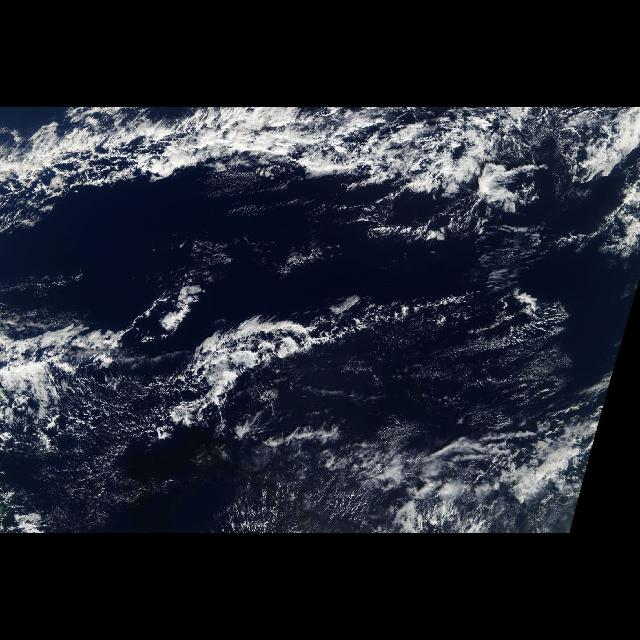Fish: (1, 108, 639, 516)
Sugar: (73, 453, 355, 529)
